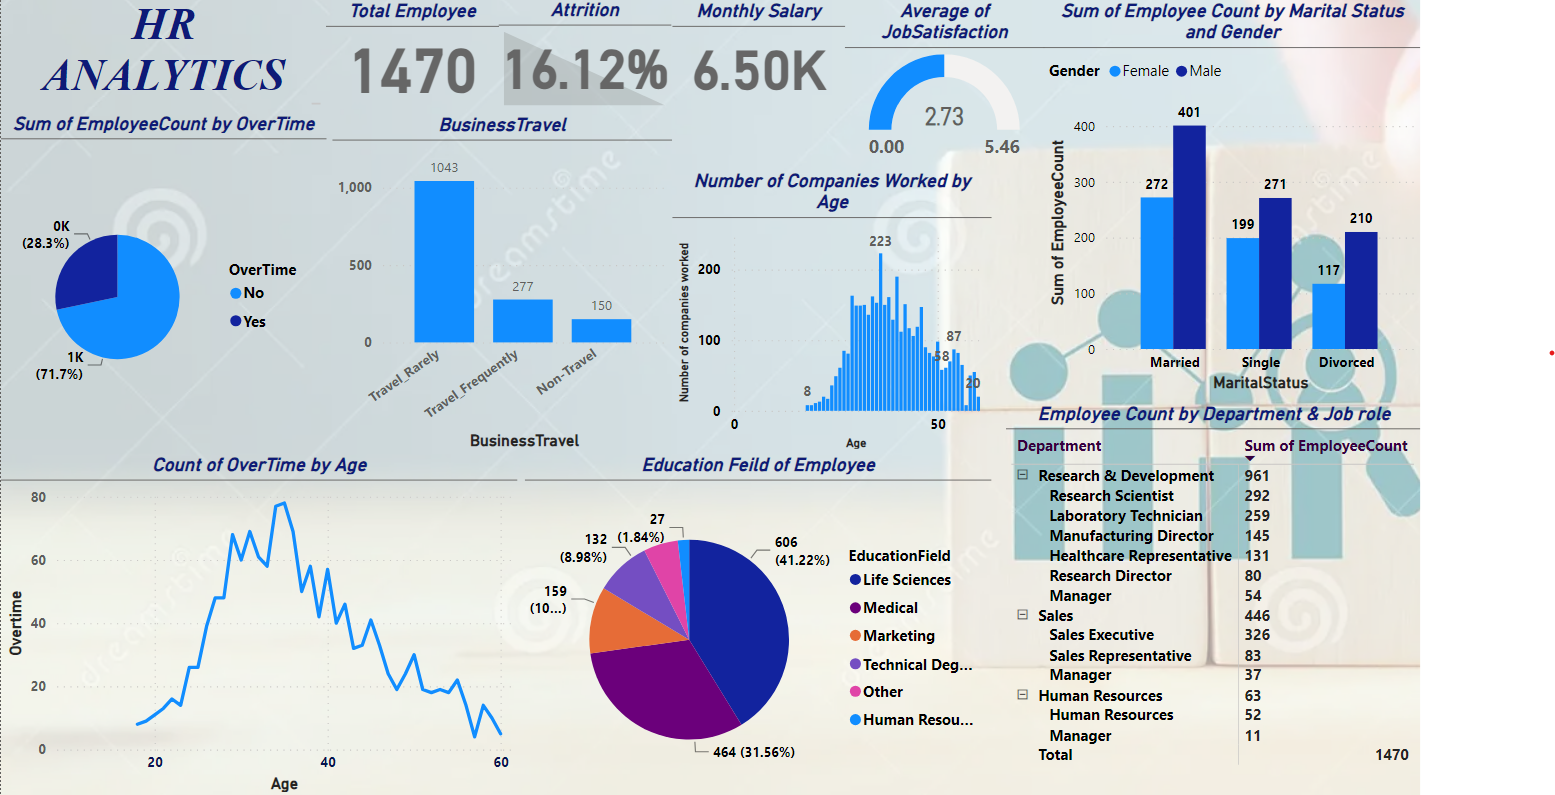

Layout of this report page (visuals, bound fields, positions):
{"tool":"powerbi","page":{"name":"Page 1","canvas":[1280,720],"ordinal":0},"visuals":[{"type":"pieChart","fields":{"Y":["Sum(HR-Employee-Attrition (2).EmployeeCount)"],"Category":["HR-Employee-Attrition (2).OverTime"]},"box":[0,102,293.3,307.4],"z":0},{"type":"lineChart","fields":{"Category":["HR-Employee-Attrition (2).Age"],"Y":["CountNonNull(HR-Employee-Attrition (2).OverTime)"]},"box":[0,410.7,465.5,309.9],"z":1000},{"type":"pieChart","title":"Education Feild of Employee","fields":{"Category":["HR-Employee-Attrition (2).EducationField"],"Y":["Sum(HR-Employee-Attrition (2).EmployeeCount)"]},"box":[471.9,410.7,420.9,309.9],"z":2000},{"type":"clusteredColumnChart","title":"Sum of Employee Count by Marital Status and Gender","fields":{"Y":["Sum(HR-Employee-Attrition (2).EmployeeCount)"],"Category":["HR-Employee-Attrition (2).MaritalStatus"],"Series":["HR-Employee-Attrition (2).Gender"]},"box":[940,1.3,340.5,358.4],"z":3000},{"type":"columnChart","title":"BusinessTravel","fields":{"Category":["HR-Employee-Attrition (2).BusinessTravel"],"Y":["CountNonNull(HR-Employee-Attrition (2).BusinessTravel)"]},"box":[298.4,103.3,306.1,307.4],"z":4000},{"type":"gauge","fields":{"Y":["Avg(HR-Employee-Attrition (2).JobSatisfaction)"]},"box":[760.1,1.3,179.8,153],"z":5000},{"type":"columnChart","title":"Number of Companies Worked by Age","fields":{"Category":["HR-Employee-Attrition (2).Age"],"Y":["Sum(HR-Employee-Attrition (2).NumCompaniesWorked)"]},"box":[604.5,154.3,288.2,256.4],"z":6000},{"type":"pivotTable","title":"Employee Count by Department & Job role","fields":{"Values":["Sum(HR-Employee-Attrition (2).EmployeeCount)"],"Rows":["HR-Employee-Attrition (2).Department","HR-Employee-Attrition (2).JobRole"]},"box":[905.5,363.5,375,357.1],"z":7000},{"type":"kpi","title":"Total Employee","fields":{"Indicator":["Sum(HR-Employee-Attrition (2).EmployeeCount)"],"TrendLine":["HR-Employee-Attrition (2).EmployeeCount"]},"box":[293.3,1.3,155.6,100.8],"z":8000},{"type":"kpi","title":"Attrition","fields":{"Indicator":["CountNonNull(HR-Employee-Attrition (2).Attrition)"],"TrendLine":["HR-Employee-Attrition (2).Attrition"]},"box":[448.9,0,155.6,100.8],"z":9000},{"type":"kpi","title":"Monthly Salary","fields":{"Indicator":["Avg(HR-Employee-Attrition (2).MonthlyIncome)"],"TrendLine":["HR-Employee-Attrition (2).EmployeeCount"]},"box":[604.5,1.3,155.6,100.8],"z":10000},{"type":"textbox","title":"HR ANALYTICS","box":[0,0,293.3,100.8],"z":11000}]}

Visuals, with their boxes in screenshot pixels (x1, y1, x2, y2):
pieChart - Sum(HR-Employee-Attrition (2).EmployeeCount) x HR-Employee-Attrition (2).OverTime: [227, 123, 546, 457]
lineChart - HR-Employee-Attrition (2).Age x CountNonNull(HR-Employee-Attrition (2).OverTime): [227, 459, 733, 794]
"Education Feild of Employee" pieChart: [740, 459, 1197, 794]
"Sum of Employee Count by Marital Status and Gender" clusteredColumnChart: [1249, 14, 1554, 403]
"BusinessTravel" columnChart: [551, 124, 884, 459]
gauge - Avg(HR-Employee-Attrition (2).JobSatisfaction): [1053, 14, 1249, 180]
"Number of Companies Worked by Age" columnChart: [884, 180, 1197, 459]
"Employee Count by Department & Job role" pivotTable: [1211, 407, 1554, 794]
"Total Employee" kpi: [546, 14, 715, 123]
"Attrition" kpi: [715, 12, 884, 122]
"Monthly Salary" kpi: [884, 14, 1053, 123]
"HR ANALYTICS" textbox: [227, 12, 546, 122]
